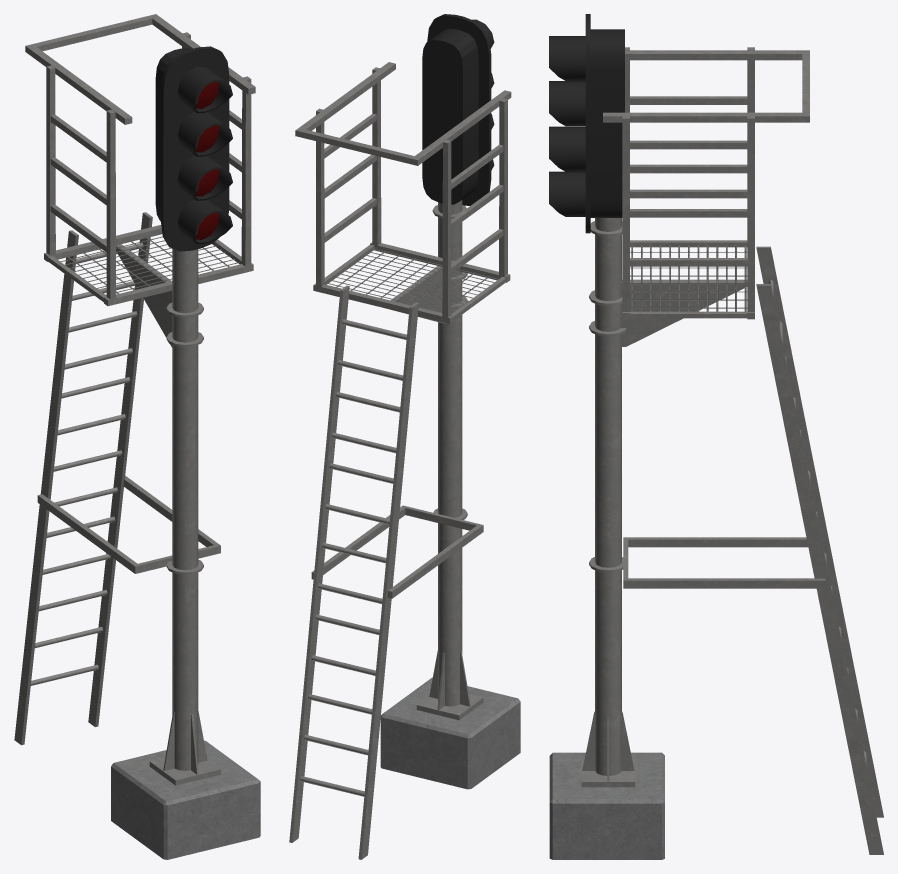
Rendered from rail_signalgantry_sml_A.fbx.
3 views of the same model, side by side, from view 1: azimuth 30°, elevation 25°; view 2: azimuth 150°, elevation 25°; view 3: azimuth 270°, elevation 25° (orthographic). The views are drawn at different scales.
Visible parts, largest first — view 1: rail_signalgantry_sml_A; view 2: rail_signalgantry_sml_A; view 3: rail_signalgantry_sml_A.
Boxes of the visible parts, x1,y1,x2,y2 form: rail_signalgantry_sml_A: [14, 14, 260, 859]; rail_signalgantry_sml_A: [289, 14, 520, 859]; rail_signalgantry_sml_A: [549, 14, 883, 859].
Bounding box in the file's own units: 1.07 × 5.52 × 2.05.
